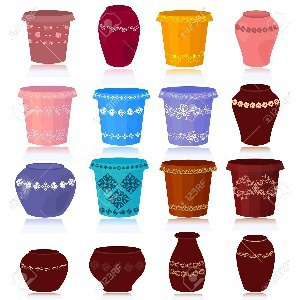flowerpot: (18, 84, 79, 147), (159, 84, 219, 148), (224, 158, 286, 219), (12, 161, 76, 219), (159, 156, 217, 219), (90, 156, 147, 219), (92, 87, 150, 146), (157, 8, 212, 68), (230, 82, 281, 146), (21, 6, 73, 65), (94, 4, 142, 67), (89, 244, 148, 294), (234, 9, 280, 68), (167, 230, 207, 294), (235, 234, 274, 293), (21, 248, 68, 292)
